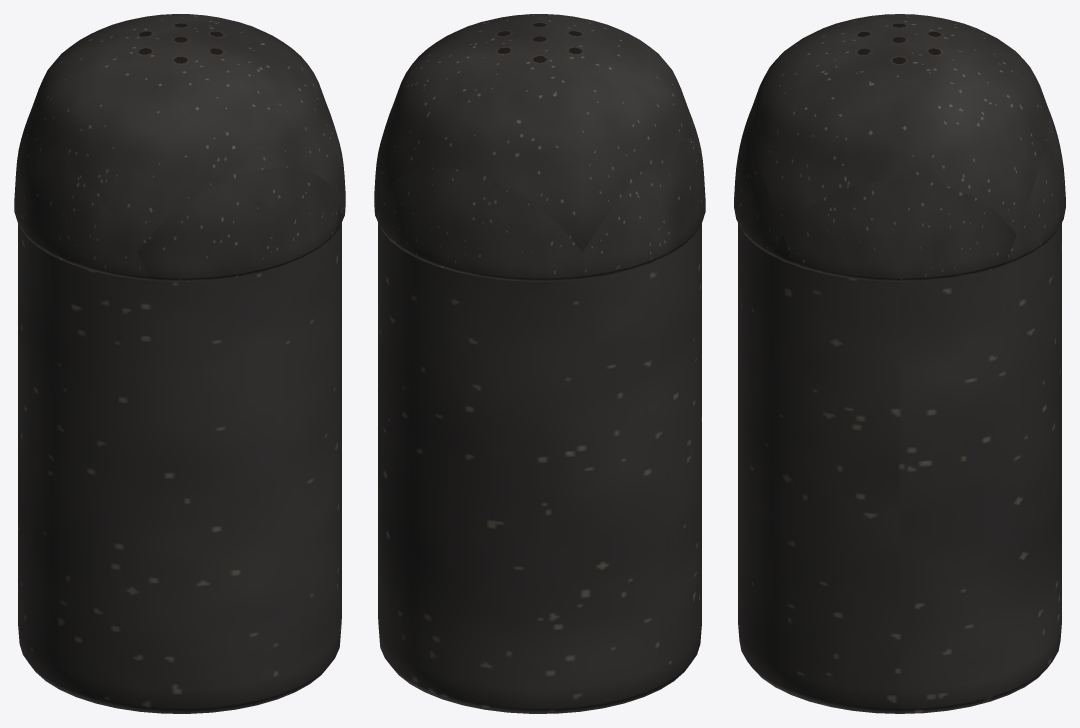
3 views of the same model, side by side, from view 1: azimuth 30°, elevation 25°; view 2: azimuth 150°, elevation 25°; view 3: azimuth 270°, elevation 25° (orthographic).
Parts seen in each view (by area): view 1: Pepper shaker, ceramic; view 2: Pepper shaker, ceramic; view 3: Pepper shaker, ceramic.
Boxes of the visible parts, left/top/right/bottom form: Pepper shaker, ceramic: left=14, top=14, right=345, bottom=713; Pepper shaker, ceramic: left=374, top=14, right=705, bottom=713; Pepper shaker, ceramic: left=734, top=14, right=1065, bottom=713.
Size of the model in its own units: 0.044 by 0.0892 by 0.044.
2 materials, 2 textured.
